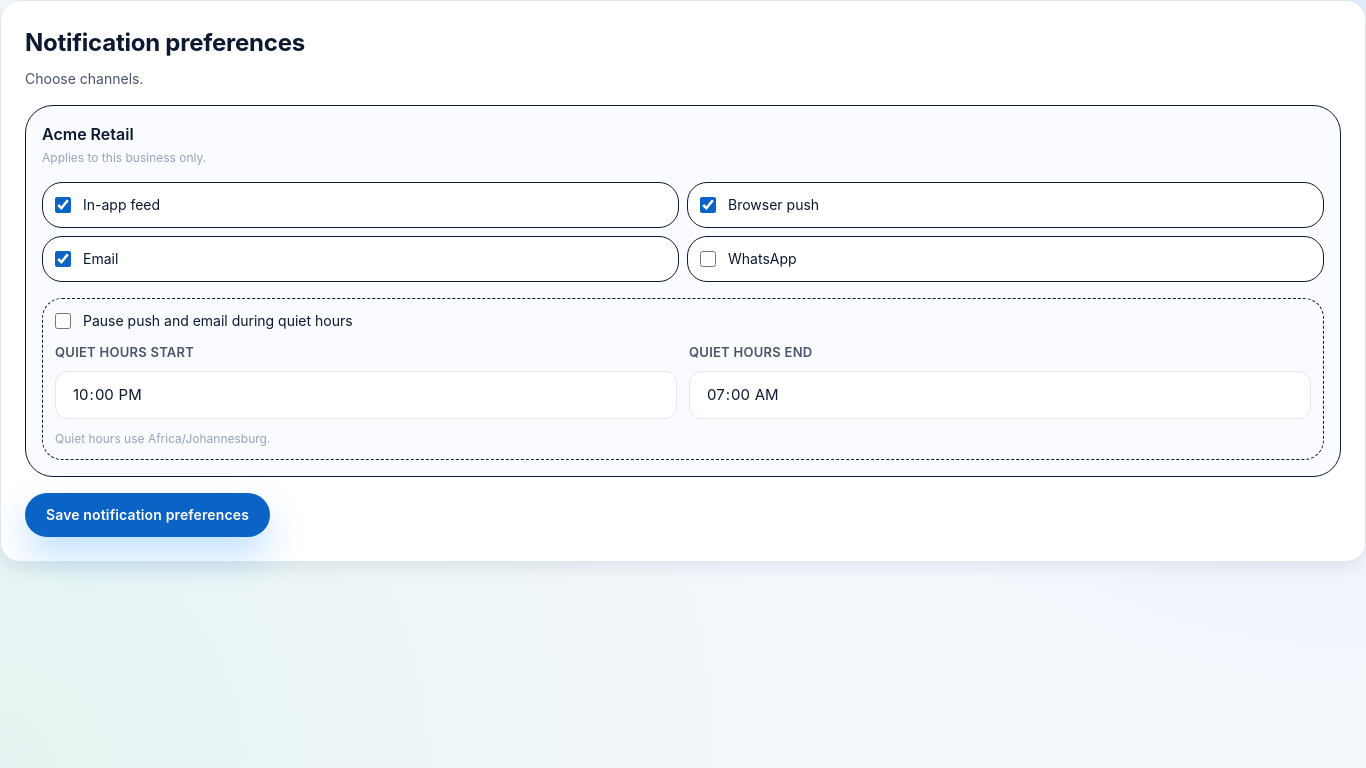
Test case: NotificationPreferencesCard › saves per-business channel and quiet-hour preferences
Click the checkbox labelled "Browser push" at (708, 205), box [700, 197, 716, 213]
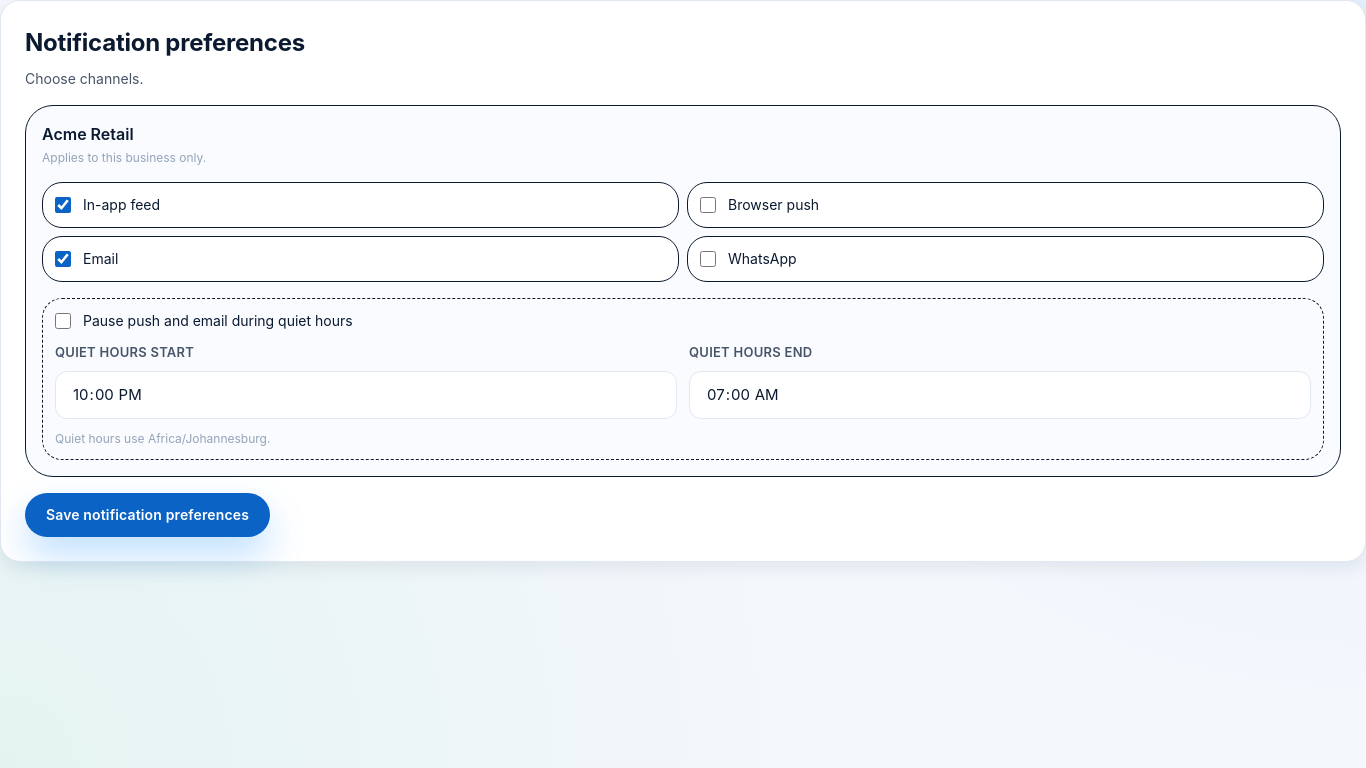
Click the checkbox labelled "Pause push and email during quiet hours" at (63, 321), box [55, 313, 71, 329]
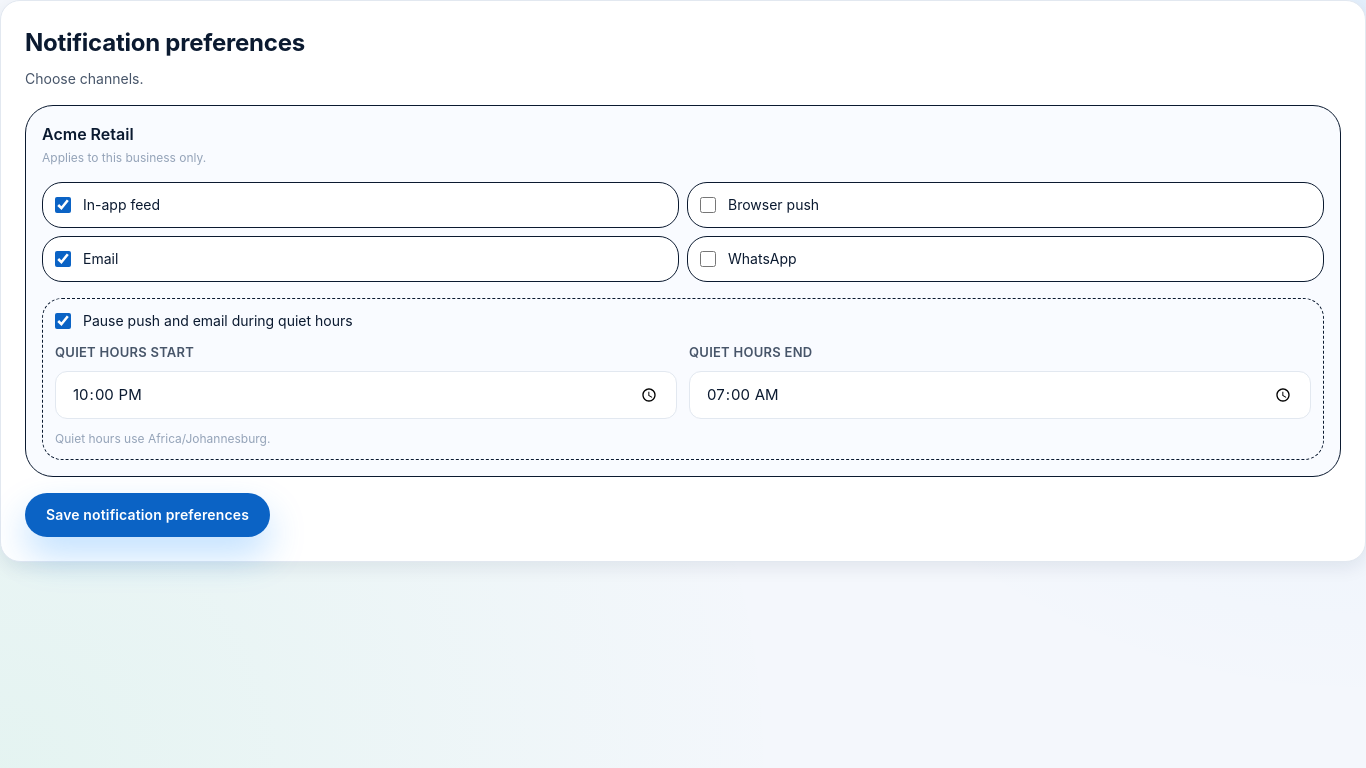
Replace the text in the time field labelled "Quiet hours start" with "21:00" at (366, 395), box [55, 370, 677, 419]
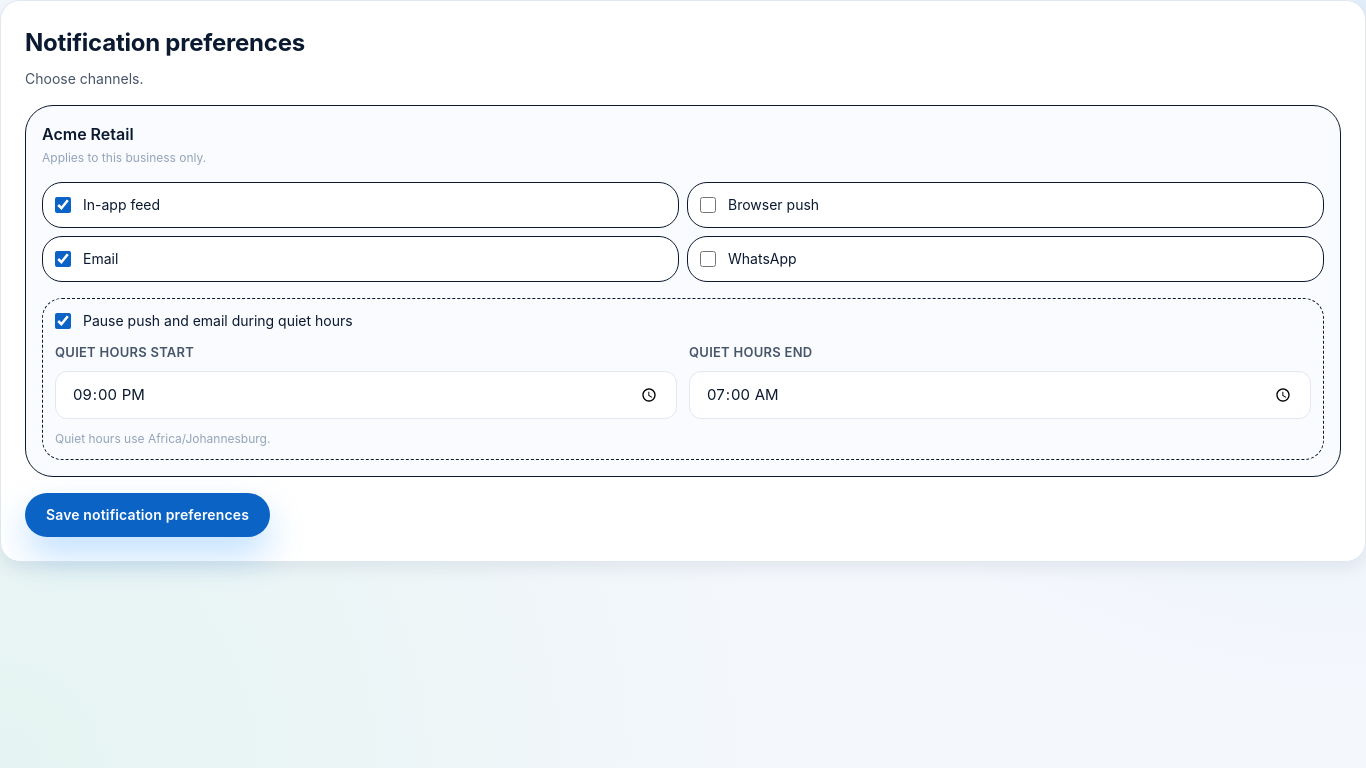
Replace the text in the time field labelled "Quiet hours end" with "06:00" at (1000, 395), box [689, 370, 1311, 419]
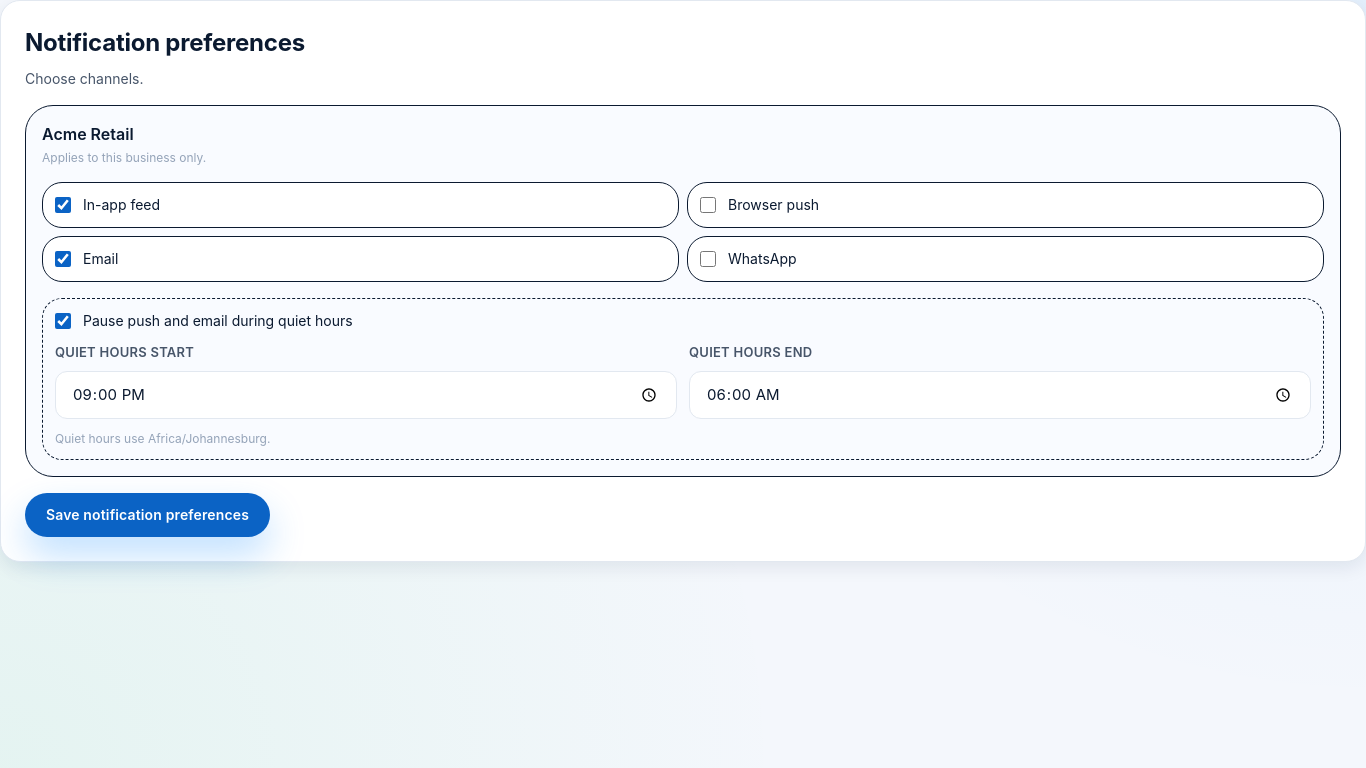
Click the button "Save notification preferences" at (148, 515), box [25, 493, 270, 537]
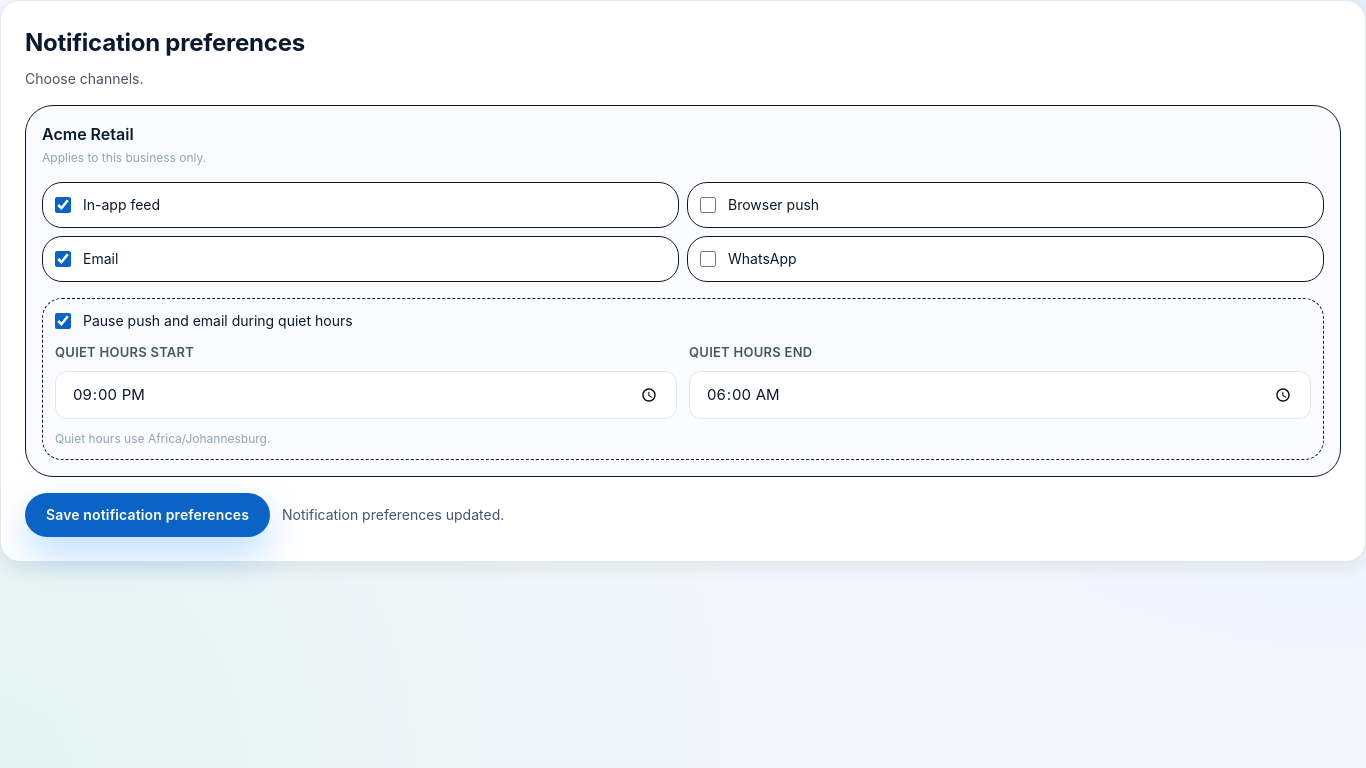
Result: the text "Notification preferences updated." is shown at [282, 505, 504, 525]
